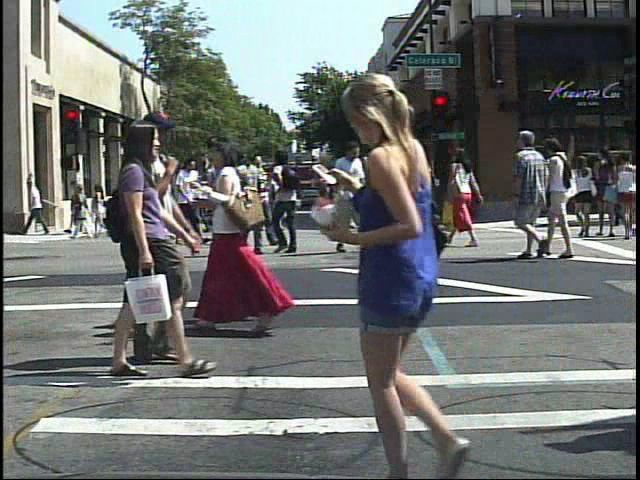person: (327, 69, 532, 479), (91, 107, 214, 384), (191, 134, 286, 338), (149, 108, 210, 369), (224, 133, 268, 334), (399, 134, 448, 262), (508, 125, 554, 261), (230, 138, 272, 261), (269, 150, 311, 258), (544, 135, 579, 260), (241, 149, 282, 248), (453, 145, 489, 255), (204, 152, 241, 250), (174, 156, 213, 244), (568, 148, 601, 242), (149, 173, 170, 242), (70, 182, 90, 232), (348, 138, 350, 257)
